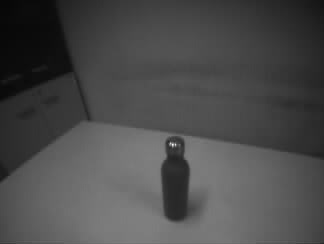Bottle: (160, 136, 191, 222)
